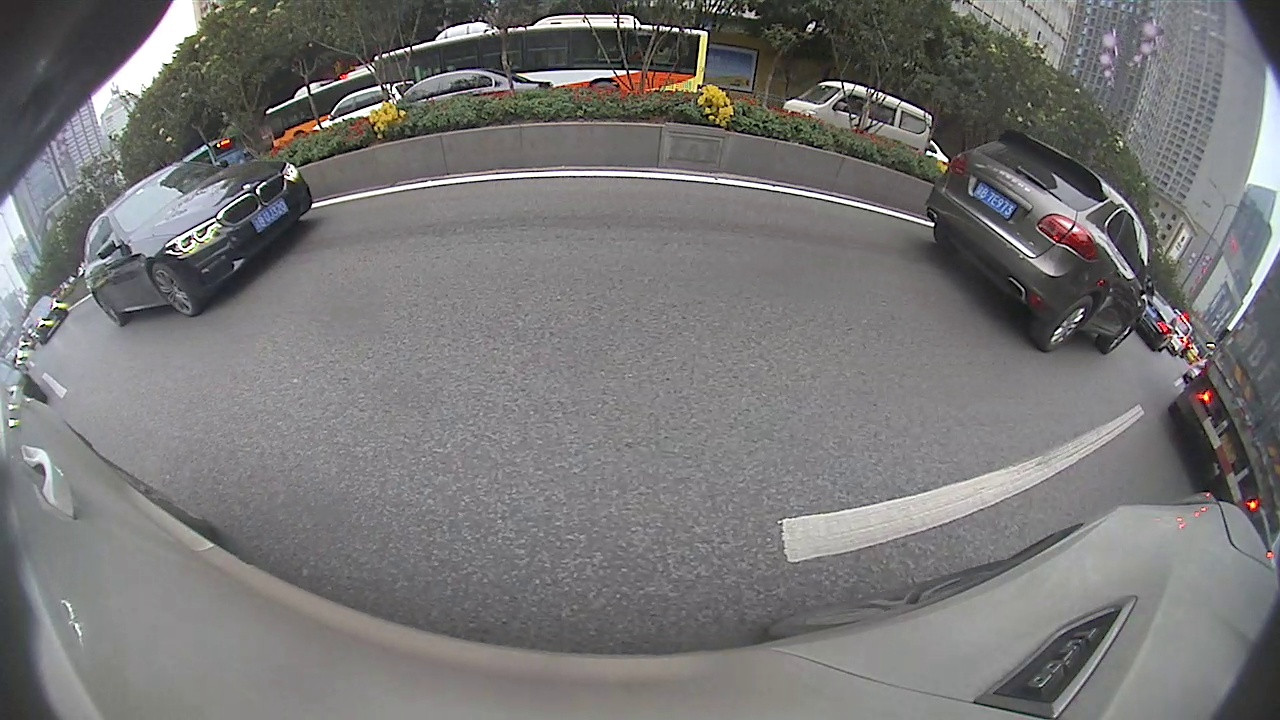car: (1, 164, 431, 450), (674, 128, 860, 235), (494, 155, 570, 205), (641, 153, 678, 186)
front: (388, 206, 426, 266), (676, 177, 686, 205)
rear: (98, 324, 207, 450), (708, 180, 730, 227), (545, 181, 553, 199)
